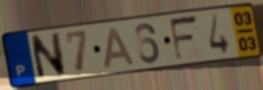4: (207, 11, 233, 56)
6: (134, 22, 162, 65)
7: (64, 28, 90, 75)
A: (102, 26, 137, 71)
F: (167, 13, 201, 64)
N: (28, 31, 68, 82)
